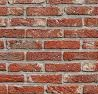brick: (26, 28, 62, 38), (26, 7, 64, 16), (10, 17, 47, 26), (44, 40, 80, 49), (48, 17, 83, 26), (30, 74, 62, 83), (27, 52, 62, 60), (64, 29, 98, 37), (9, 86, 43, 94), (66, 7, 98, 15), (66, 74, 98, 82), (1, 28, 25, 38), (64, 52, 98, 59), (8, 64, 42, 71), (8, 41, 41, 48), (48, 87, 81, 94), (1, 6, 23, 16), (1, 51, 25, 60), (45, 64, 81, 70), (1, 74, 24, 81), (83, 18, 98, 26), (85, 86, 98, 93), (83, 42, 98, 48), (85, 65, 98, 70), (1, 17, 8, 26), (1, 62, 5, 71), (1, 85, 6, 92), (1, 41, 5, 47)
